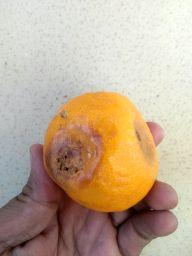Unripe: (41, 93, 155, 210)
